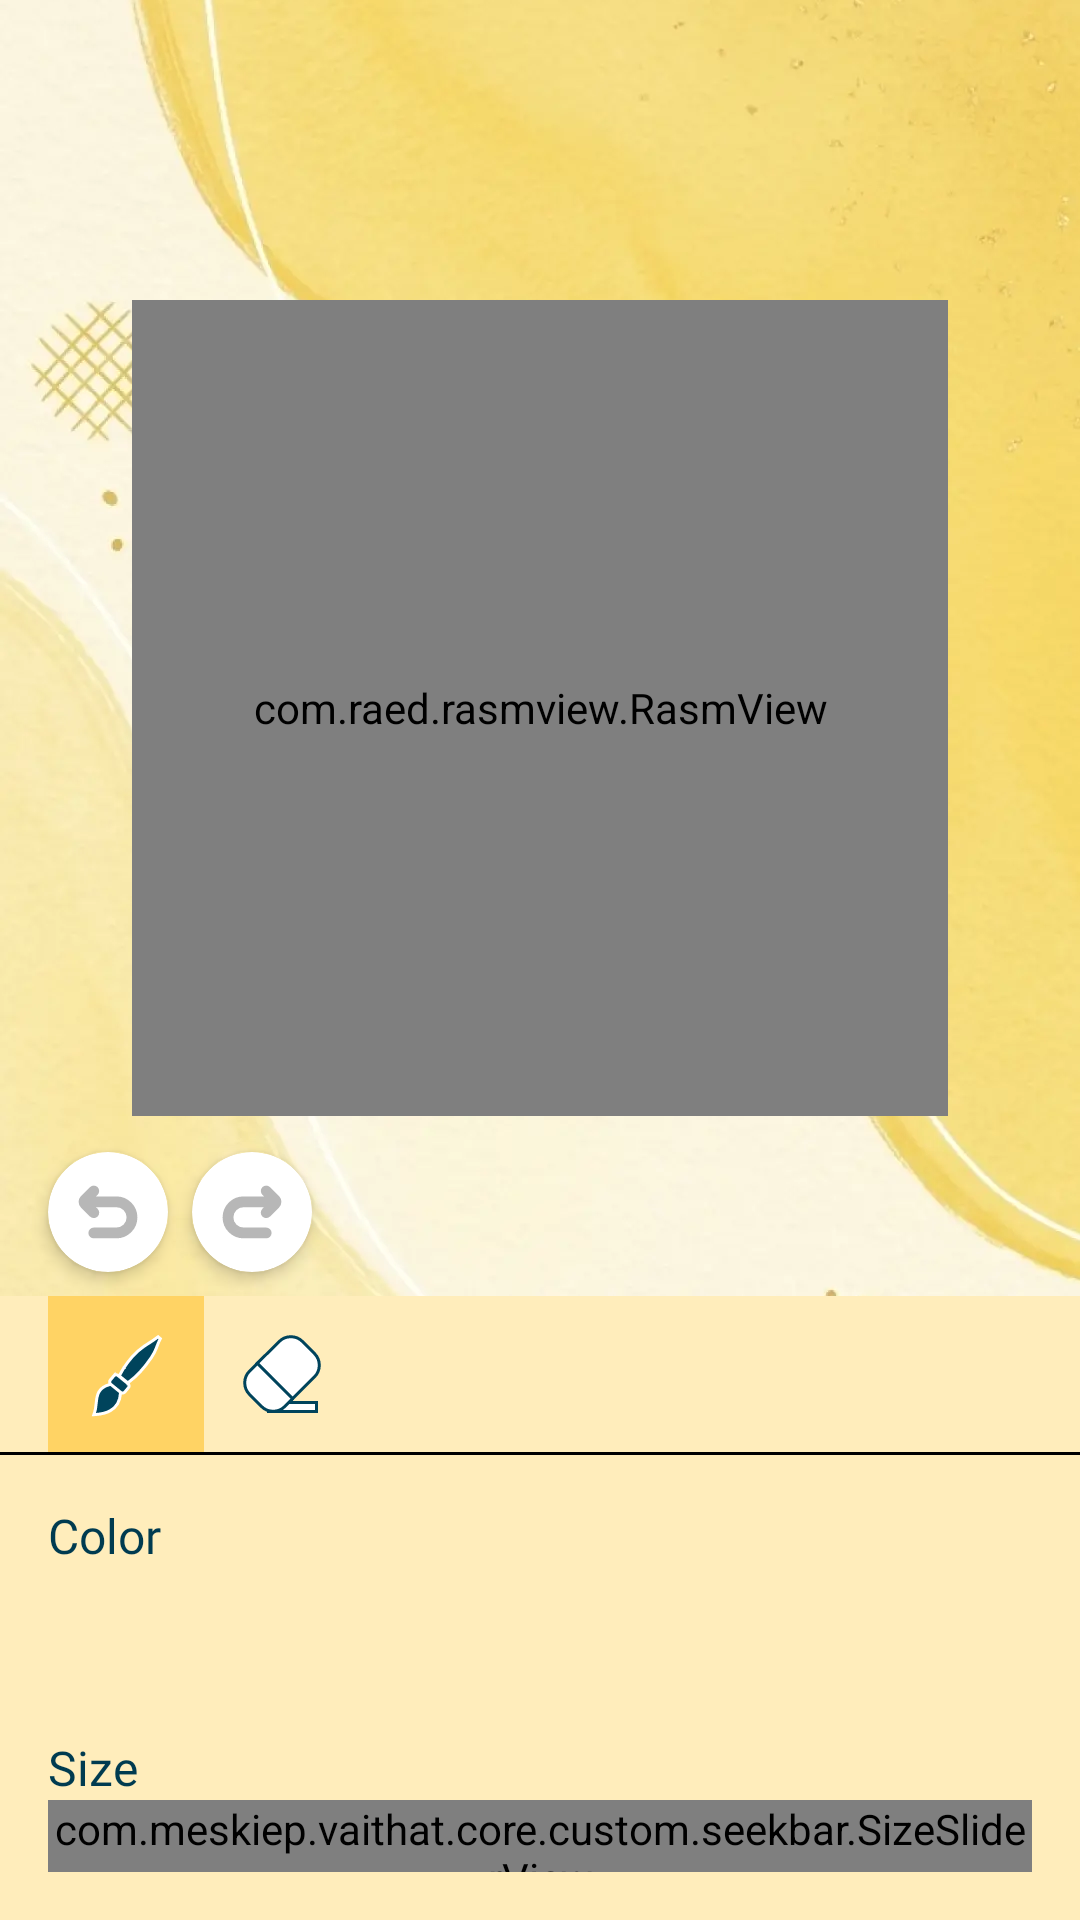

Named icons in this screenshot (1080x1920) and their centers, [x,y]:
emoji maker brush: [126,1374]
emoji maker eraser unselect: [282,1374]
